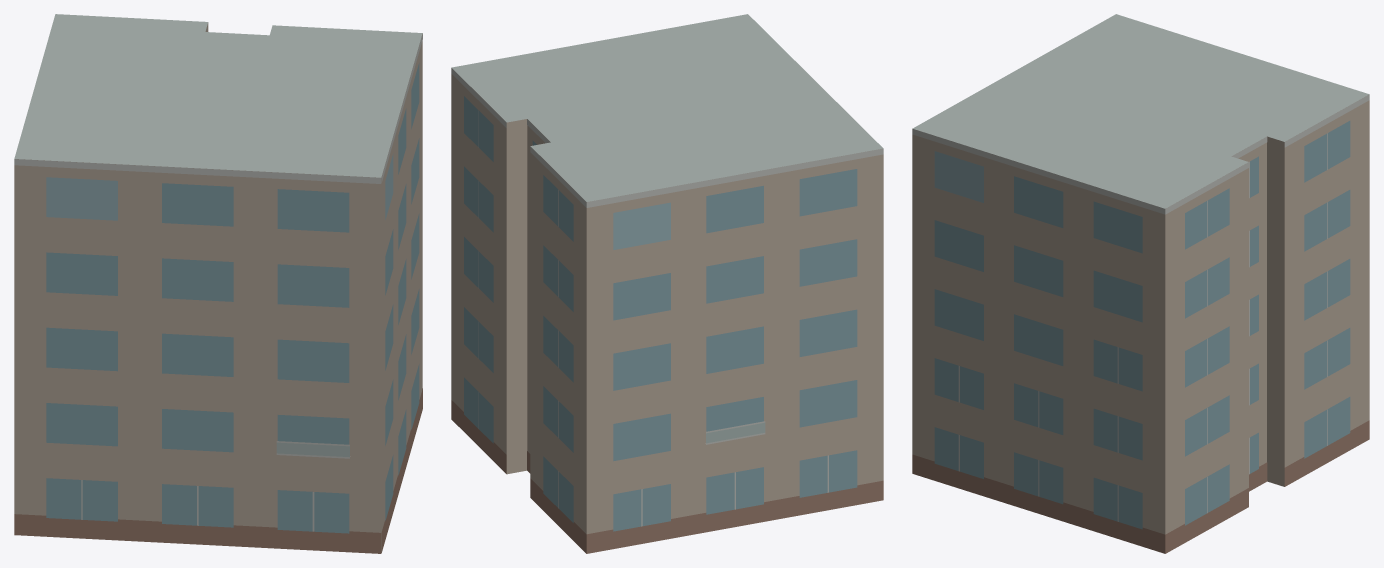
The model's file is survey-upis-32990467.glb.
The picture shows the model from 3 angles, left to right: view 1: azimuth 30°, elevation 25°; view 2: azimuth 150°, elevation 25°; view 3: azimuth 270°, elevation 25°; orthographic projection. The views are drawn at different scales.
Parts seen in each view (by area): view 1: survey-upis-32990467.tmp; view 2: survey-upis-32990467.tmp; view 3: survey-upis-32990467.tmp.
Part boxes in pixels (<box>): survey-upis-32990467.tmp: <box>14,14,422,553</box>; survey-upis-32990467.tmp: <box>451,14,883,553</box>; survey-upis-32990467.tmp: <box>912,14,1369,553</box>.
Size of the model in its own units: 17.45 by 14.4 by 17.3.
